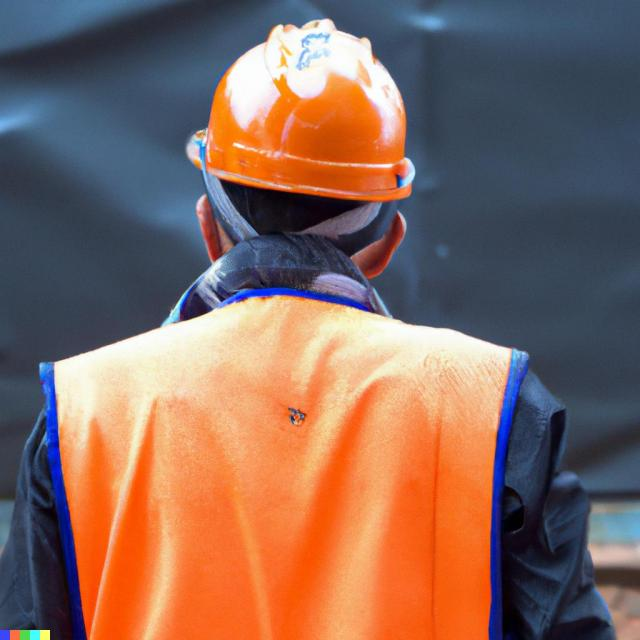Reflective-Jacket: (31, 287, 546, 640)
Safety-Helmet: (189, 22, 417, 202)
